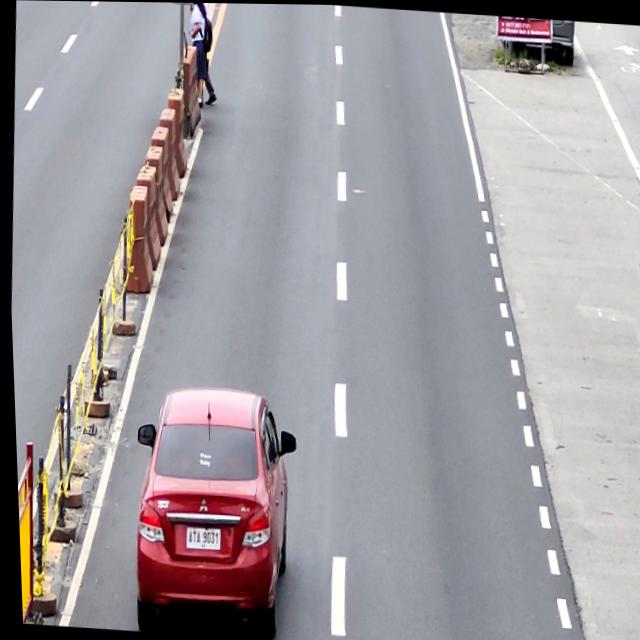Car: (122, 381, 303, 640)
License-Plate: (180, 526, 217, 548)
